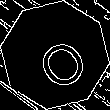O_NW: (22, 22, 88, 88)
